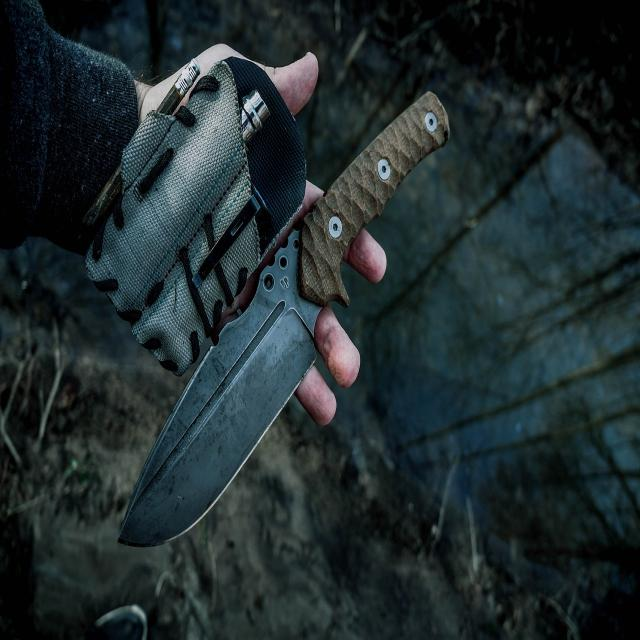knife: (118, 92, 451, 547)
